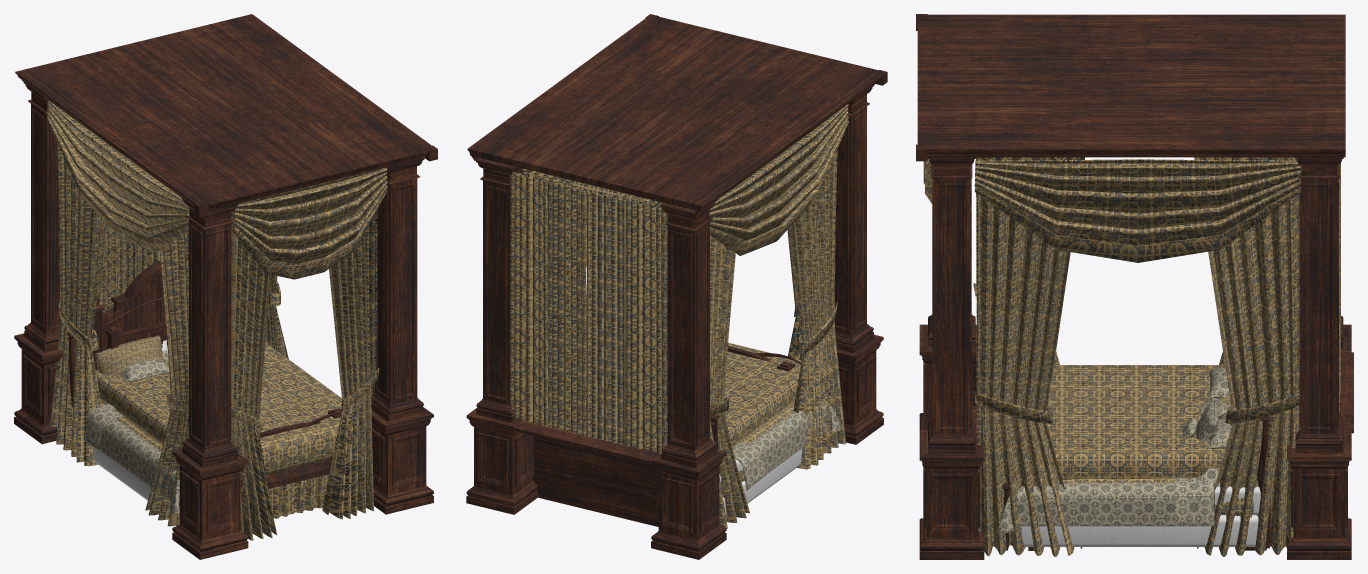
The model's file is Beds.fbx.
3 views of the same model, side by side, from view 1: azimuth 30°, elevation 25°; view 2: azimuth 150°, elevation 25°; view 3: azimuth 270°, elevation 25° (orthographic). The views are drawn at different scales.
Parts seen in each view (by area): view 1: bed11_MSH, bed4_MSH, bed3_MSH, bed5_MSH, bed1_MSH, bed8_MSH; view 2: bed11_MSH, bed4_MSH, bed8_MSH; view 3: bed11_MSH, bed4_MSH, bed8_MSH.
Part boxes in pixels (x1,y1,x2,y2): bed11_MSH: (14,14,437,559); bed4_MSH: (67,337,179,515); bed3_MSH: (92,260,166,370); bed5_MSH: (95,308,166,445); bed1_MSH: (105,321,341,418); bed8_MSH: (66,297,179,474); bed11_MSH: (466,14,887,559); bed4_MSH: (711,401,840,517); bed8_MSH: (710,392,830,490); bed11_MSH: (916,14,1353,559); bed4_MSH: (997,368,1270,550); bed8_MSH: (1002,416,1270,550).
Bounding box in the file's own units: 247 × 353 × 338.
